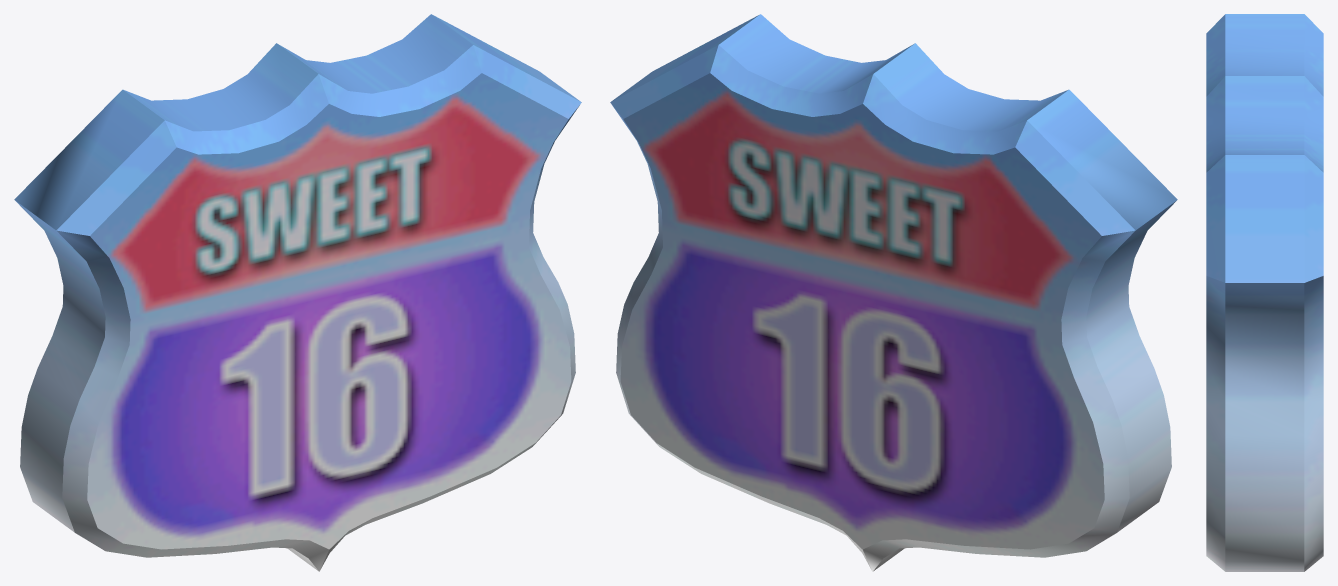
File: icon.ico.obj
3 renders of one model, left to right at view 1: azimuth 30°, elevation 25°; view 2: azimuth 150°, elevation 25°; view 3: azimuth 270°, elevation 25°, orthographic. The views are drawn at different scales.
Bounding box in the file's own units: 5 × 4.53 × 1.03.
1 material, 1 textured.
